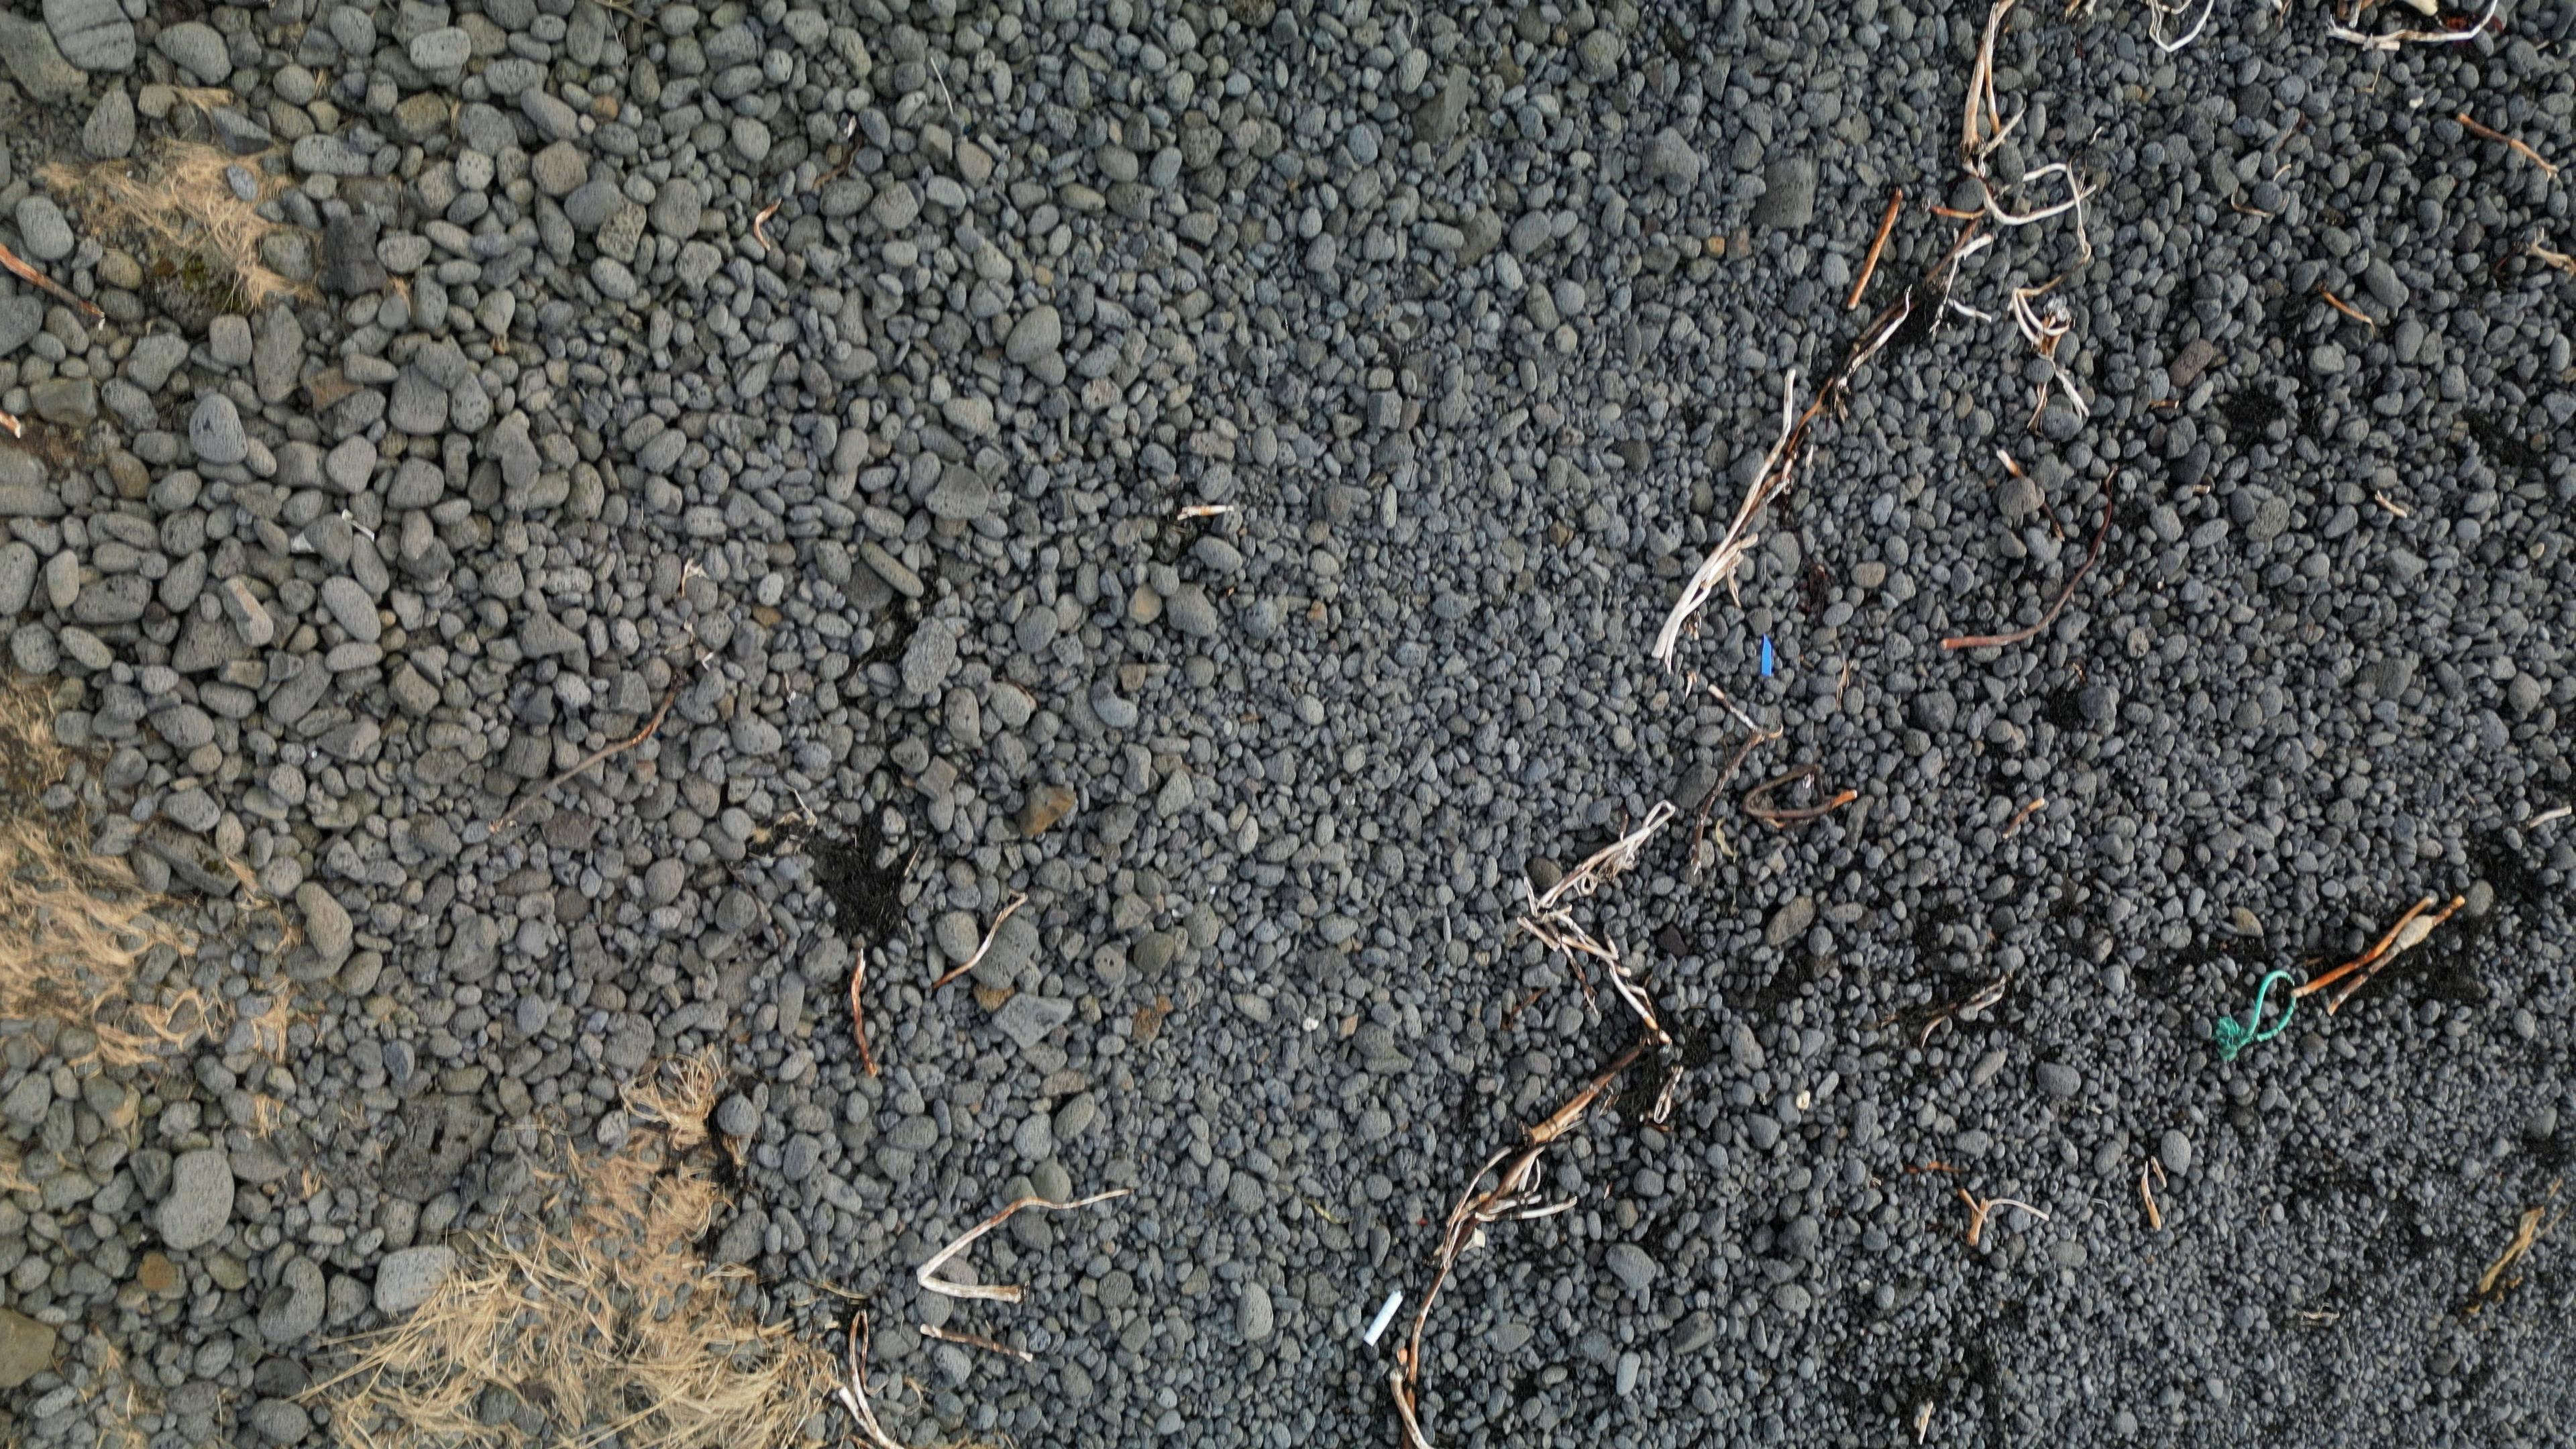trash: (2213, 971, 2295, 1062), (1364, 1288, 1403, 1348), (1760, 633, 1776, 679)
